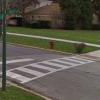Crosswalk: (8, 44, 90, 83)
